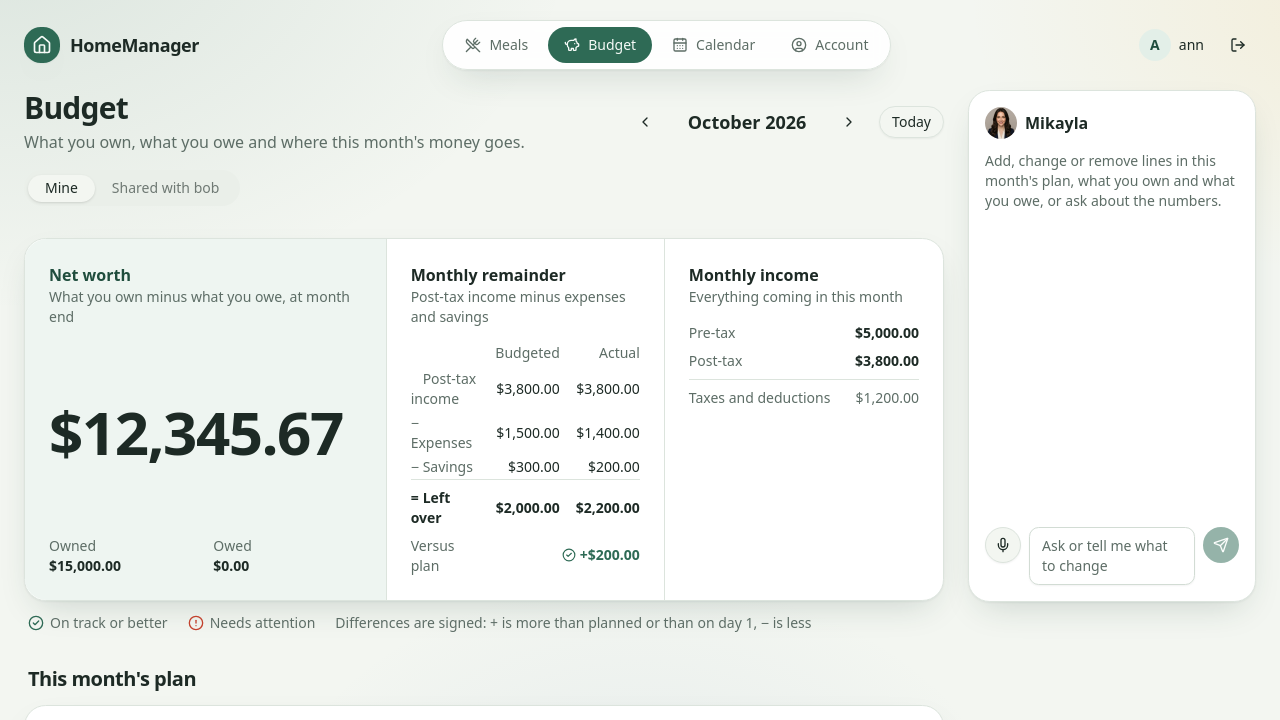
Scenario: BudgetPage › sends the partner on the shared tab to the assistant and refetches the shared month after a change
The width and height of the screenshot is (1280, 720).
Step 1. Click the tab "Shared with bob" → (166,188), box [95,174,236,202]
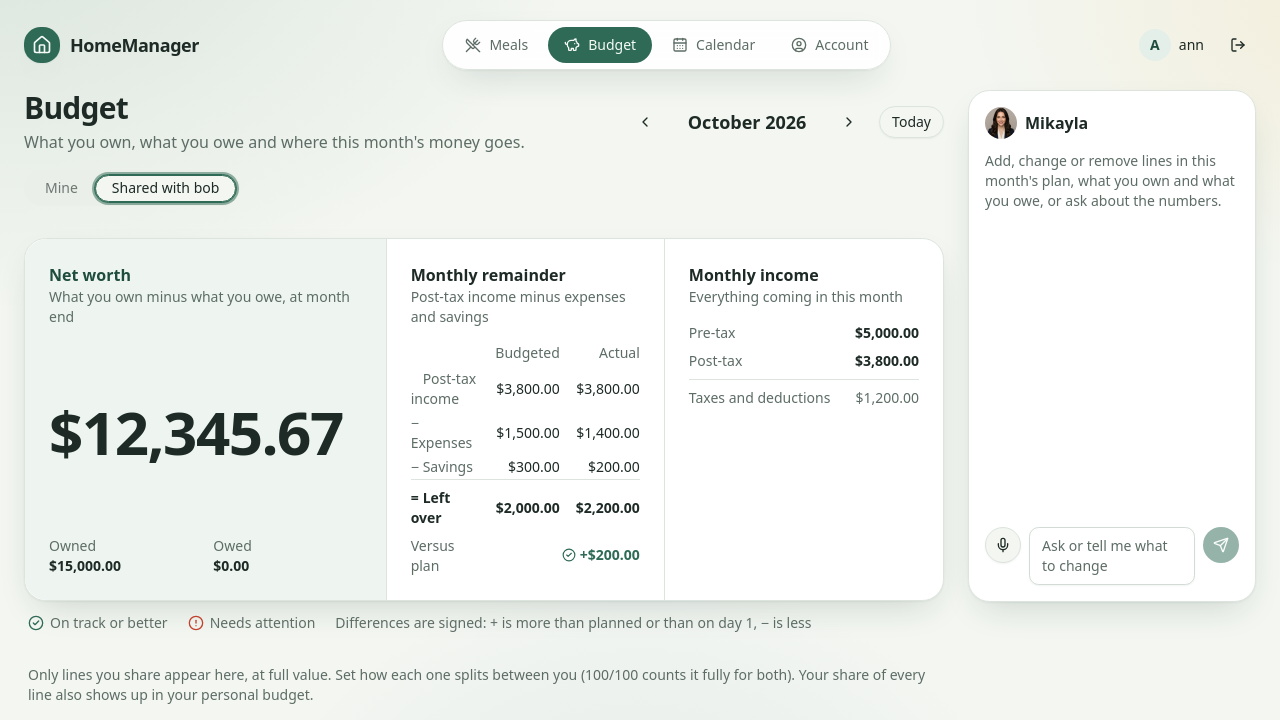
Step 2. Type "Rename it" into the text box named "Message Mikayla" → (1112,556), box [1029,527,1195,585]
Then press Enter
(page scrolled)
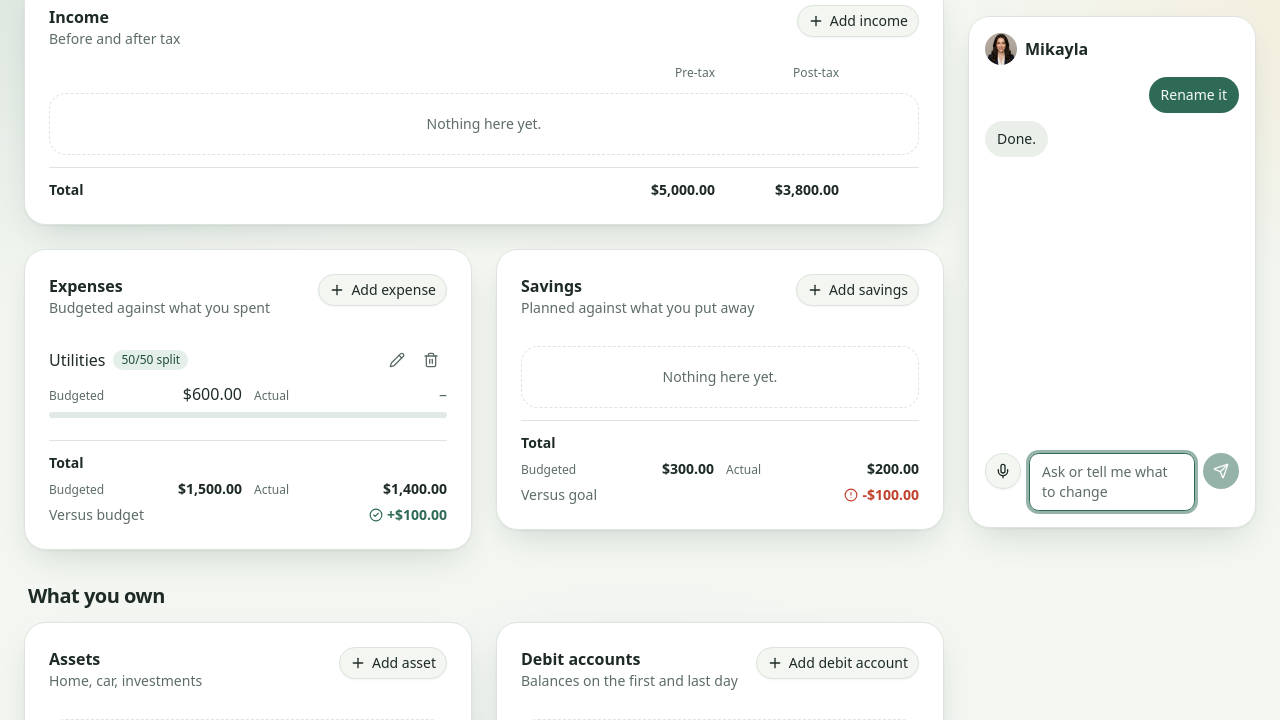
expect the button named "Edit Utilities" is shown: met, box [381,344,413,376]
